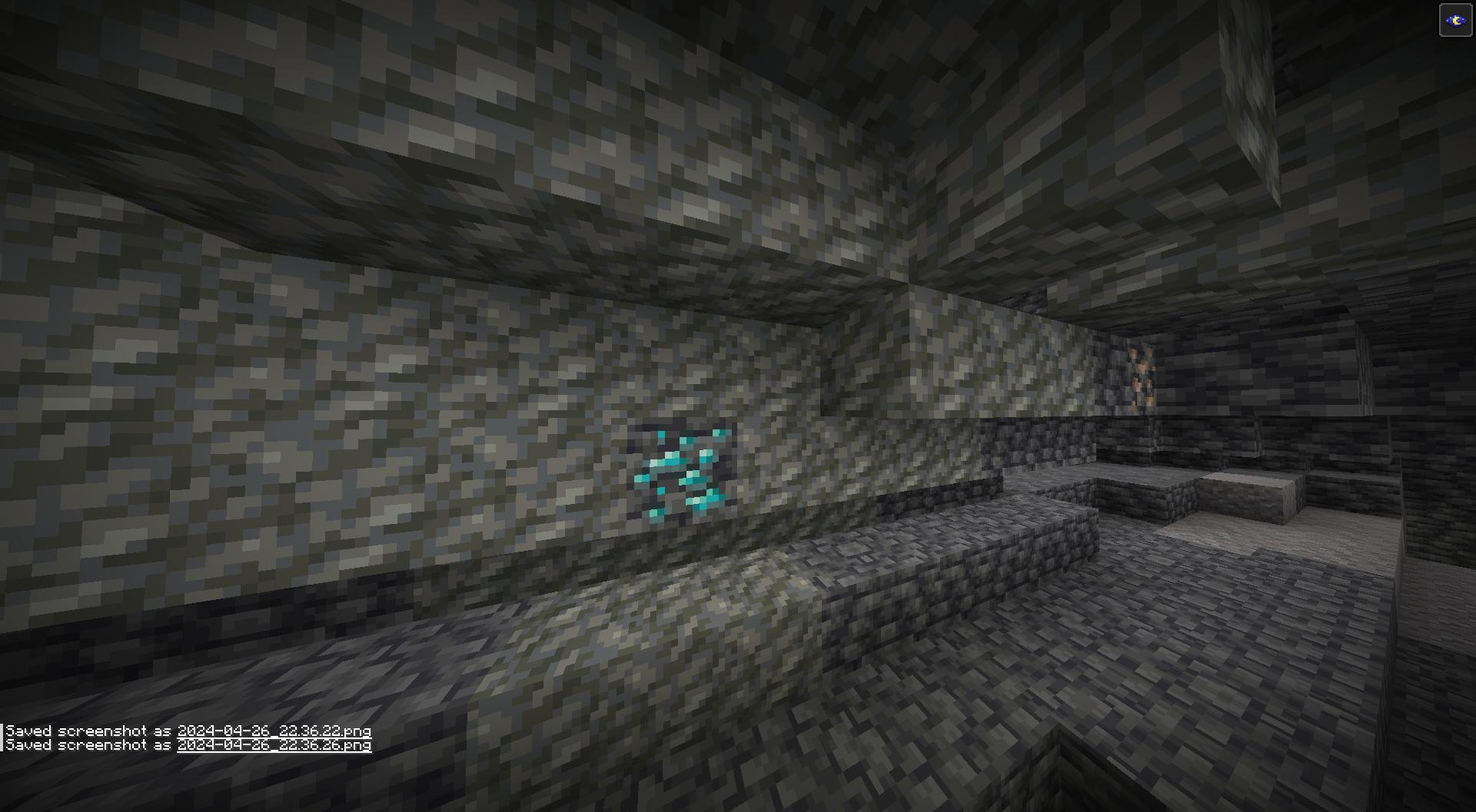diamond ore: (633, 416, 736, 529)
iron ore: (1128, 337, 1160, 419)
